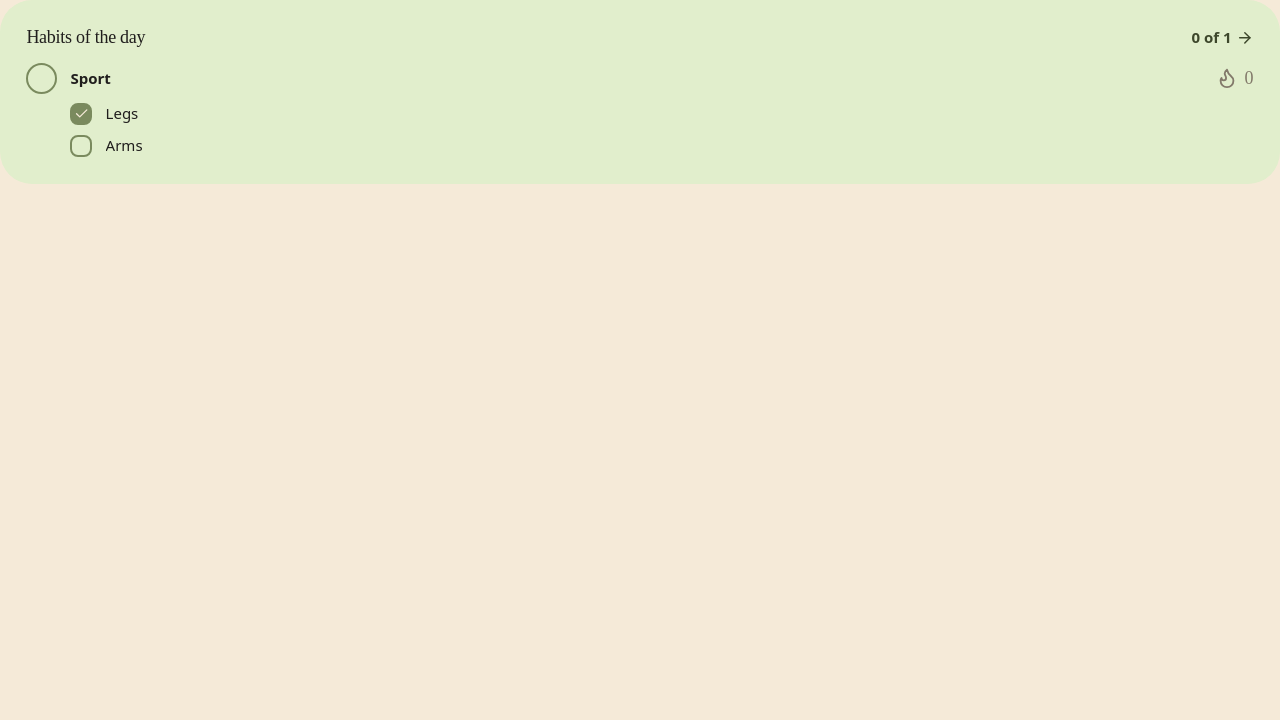
the parts of a habit › puts a part back when the server refuses it
The width and height of the screenshot is (1280, 720).
Step 1. Click the checkbox named "Sport: Arms" → (81, 146), box [70,135,92,157]
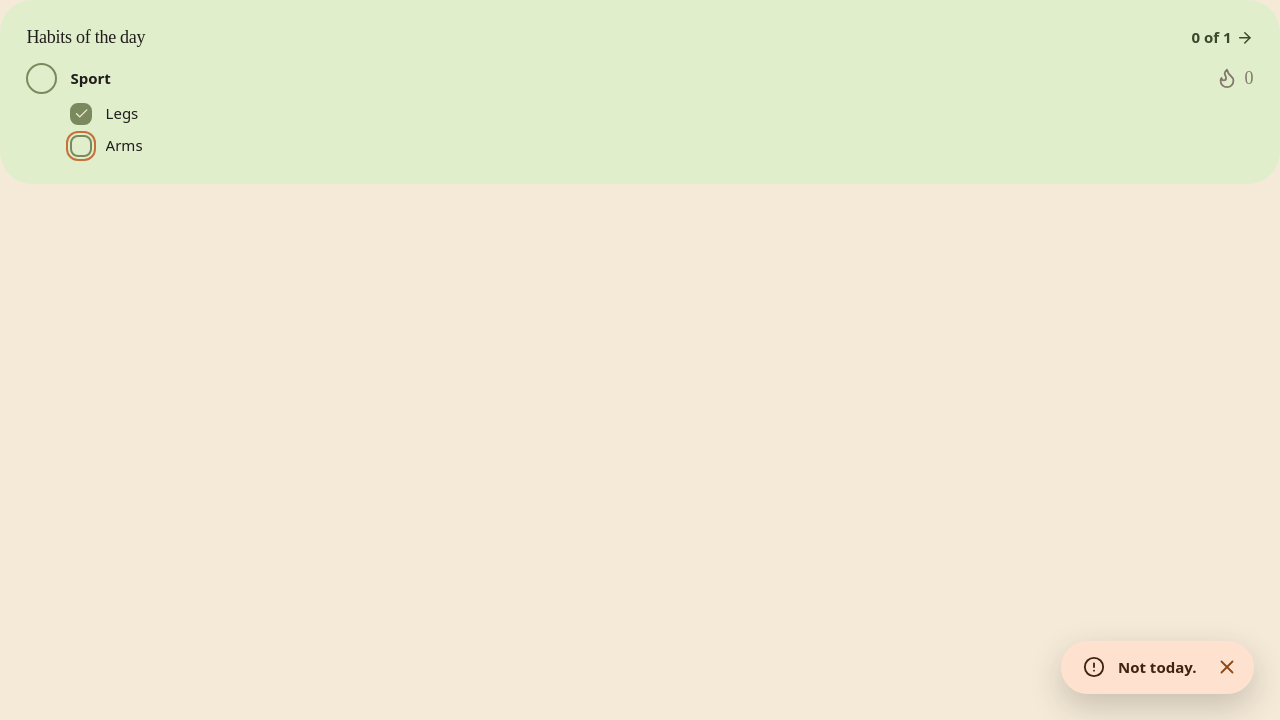
Expected: the checkbox named "Sport" is not checked, [26,63,57,94]
Now the message reads "Not today.", box [1118,657,1196,677]
